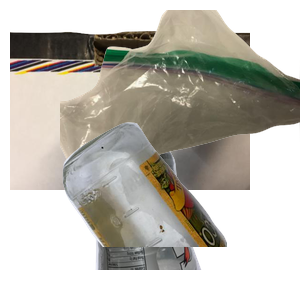cardboard: (10, 29, 250, 209)
glass: (60, 120, 300, 300)
plastic: (71, 120, 265, 300)
trash: (60, 10, 300, 176)
